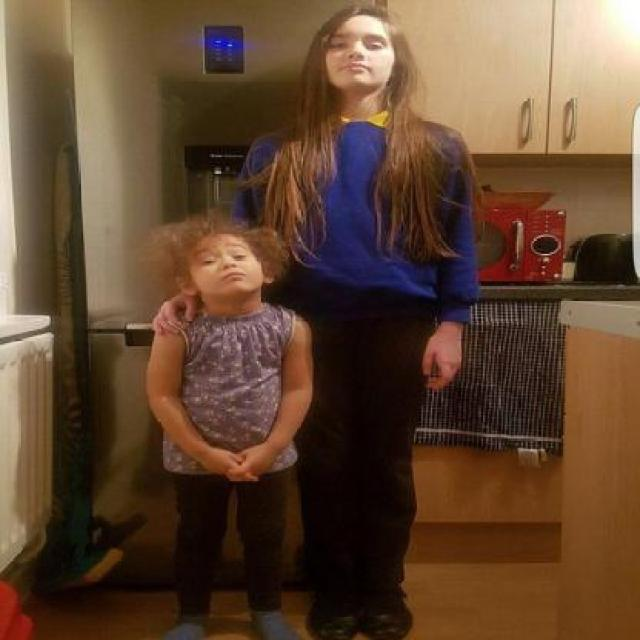Person: (260, 0, 469, 638), (123, 210, 334, 630)
